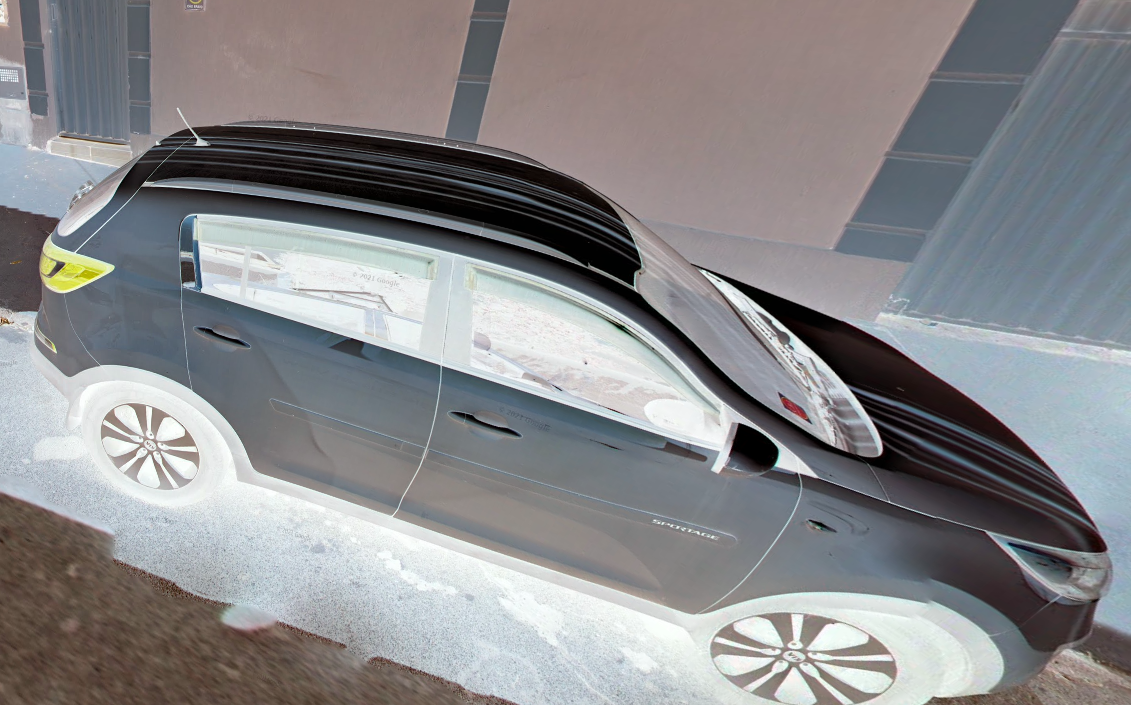car: (29, 123, 1114, 705)
